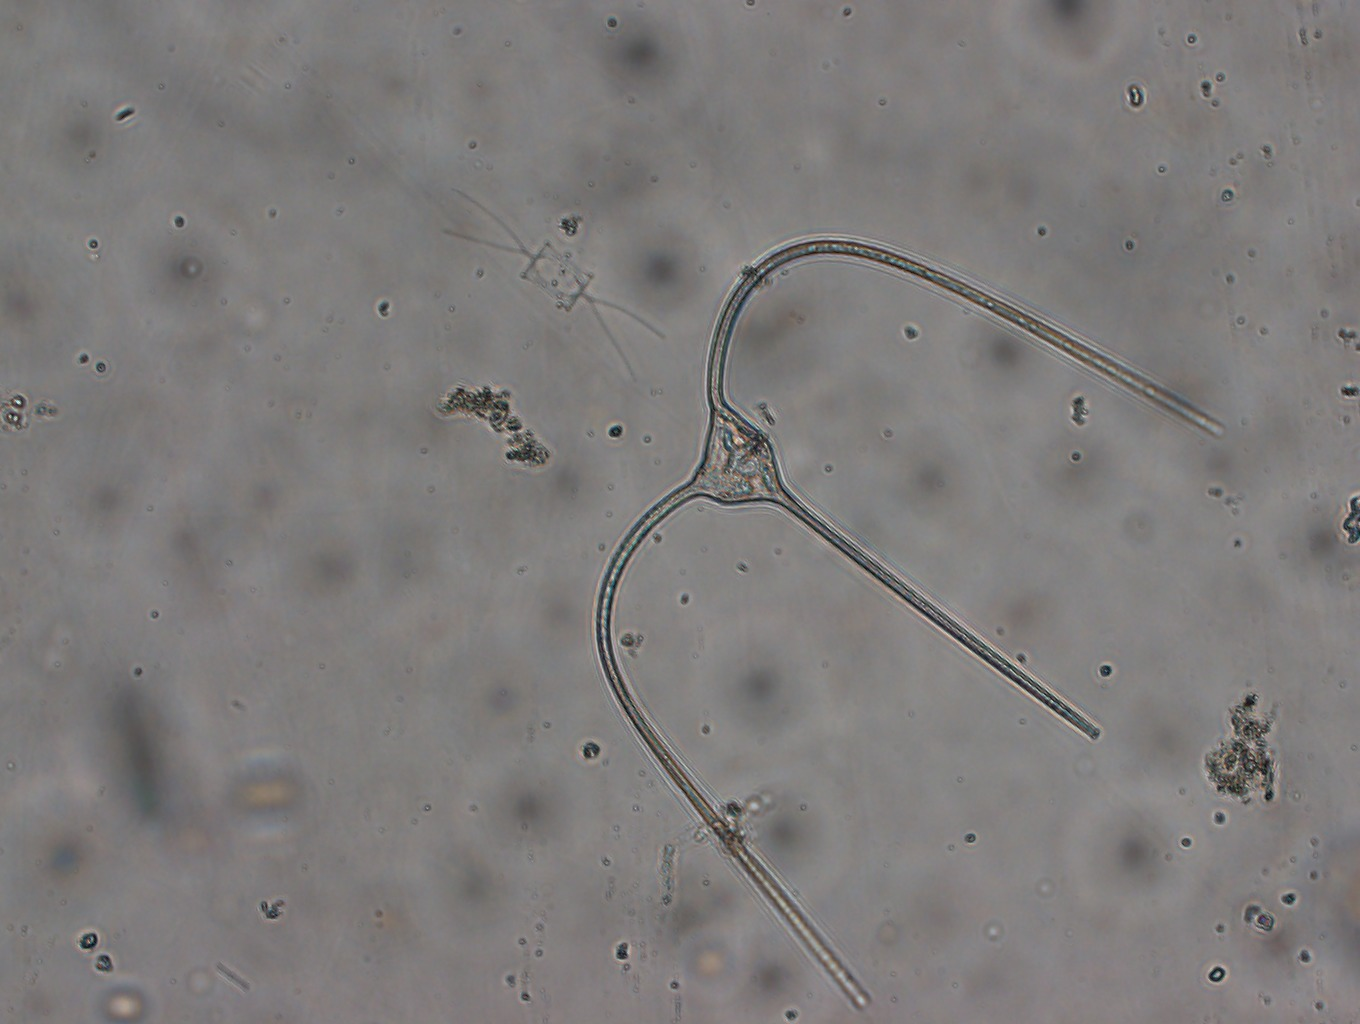ceratium trichoceros: (593, 232, 1226, 1011)
chaetoceros: (440, 180, 668, 379)
